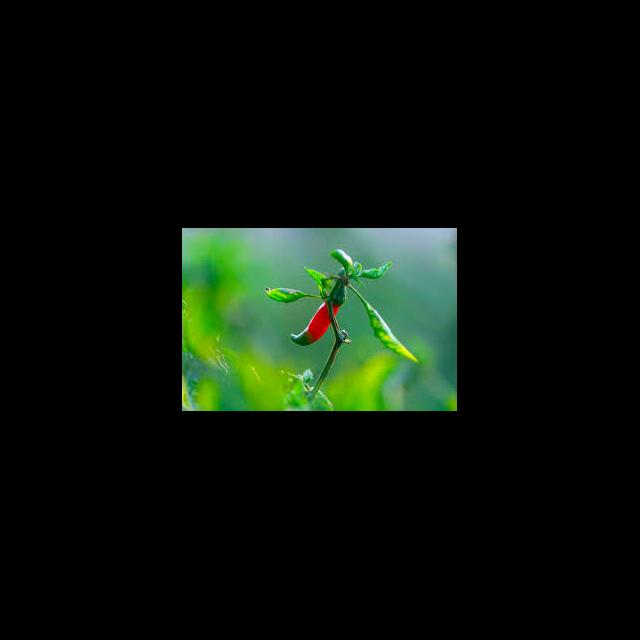chili_pepper: (291, 285, 343, 347)
